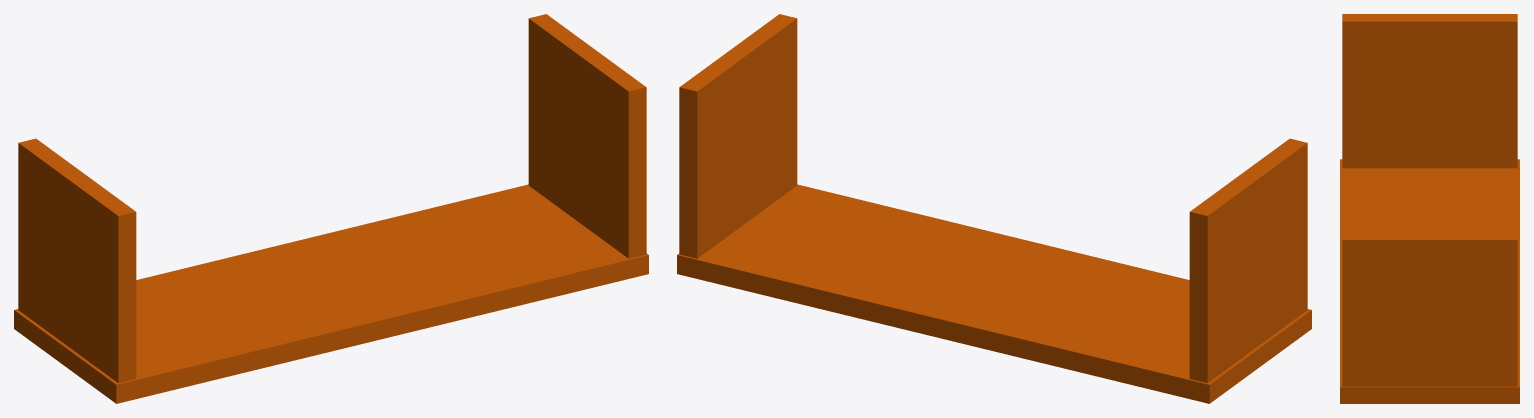
The model's file is step.fbx.
The picture shows the model from 3 angles, left to right: view 1: azimuth 30°, elevation 25°; view 2: azimuth 150°, elevation 25°; view 3: azimuth 270°, elevation 25°; orthographic projection. The views are drawn at different scales.
Parts seen in each view (by area): view 1: Cube, Cube_2, Cube_1; view 2: Cube, Cube_2, Cube_1; view 3: Cube_1, Cube_2, Cube.
Boxes of the visible parts, box(x1,y1,x2,y2) form: Cube: box(14, 184, 648, 403); Cube_2: box(528, 14, 646, 258); Cube_1: box(18, 138, 136, 383); Cube: box(677, 184, 1311, 403); Cube_2: box(679, 14, 797, 258); Cube_1: box(1189, 138, 1307, 383); Cube_1: box(1342, 14, 1517, 168); Cube_2: box(1342, 232, 1517, 386); Cube: box(1340, 159, 1519, 403).
Bounding box in the file's own units: 600 × 201 × 200.
